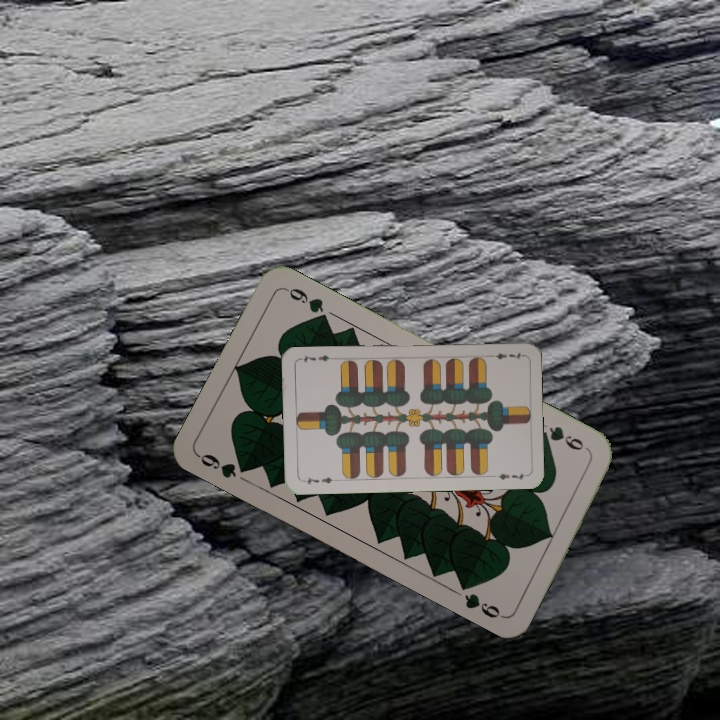E7: (299, 473, 340, 487), (485, 349, 525, 362)
G9: (534, 422, 593, 455), (194, 450, 254, 481)
